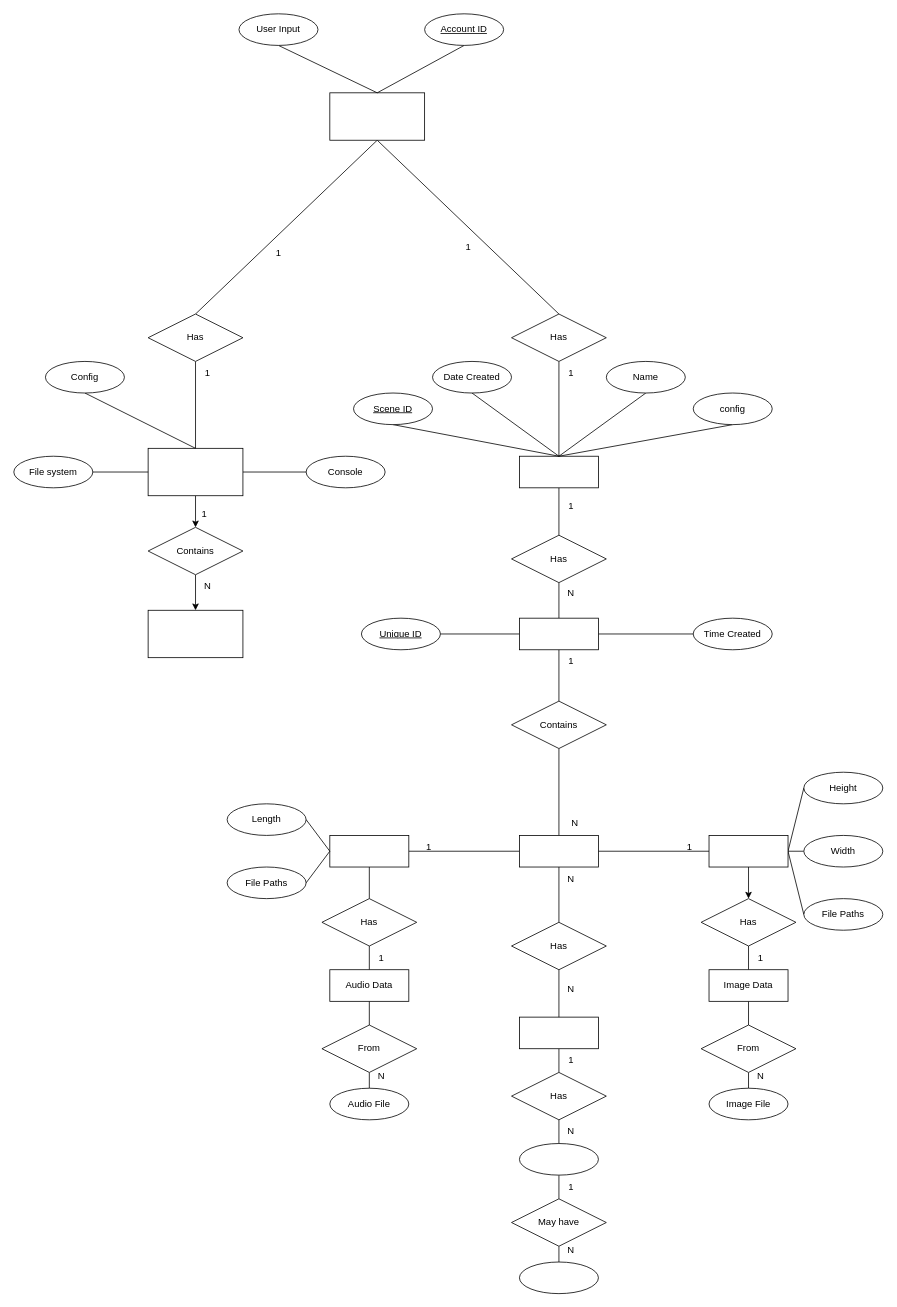
This 897x1307 diagram has some shape labels left out. The centre of each missing label's shape, as x and y in pixels:
Attributes: (558,1159)
Audio Player: (369,851)
Components: (558,851)
Editor: (377,116)
Entity: (558,633)
Relationships: (558,1277)
Scene: (558,471)
Texture Map: (748,851)
UI: (195,472)
Unique Components: (558,1032)
Windows: (195,633)
